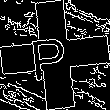P_N: (34, 28, 76, 82)
